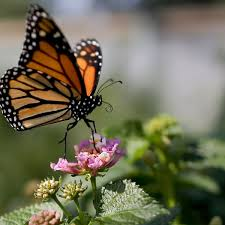butterfly: (1, 3, 119, 132)
flower: (47, 134, 125, 177)
